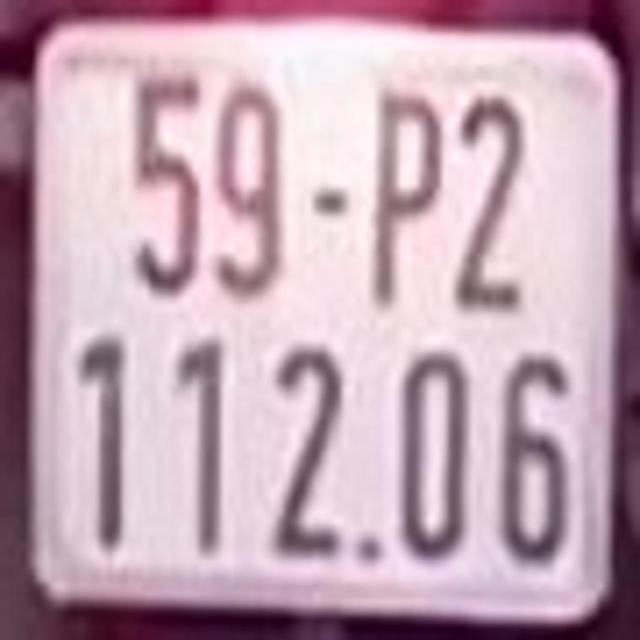0: (392, 346, 470, 552)
1: (74, 330, 141, 554), (181, 334, 231, 548)
2: (267, 344, 344, 560), (461, 97, 534, 312)
5: (131, 71, 205, 302)
6: (496, 346, 573, 561)
9: (217, 88, 282, 305)
P: (368, 88, 446, 311)
